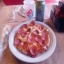pepperoni: (14, 38, 39, 55), (24, 29, 45, 46), (18, 22, 29, 38)
pizza: (13, 22, 51, 57)
